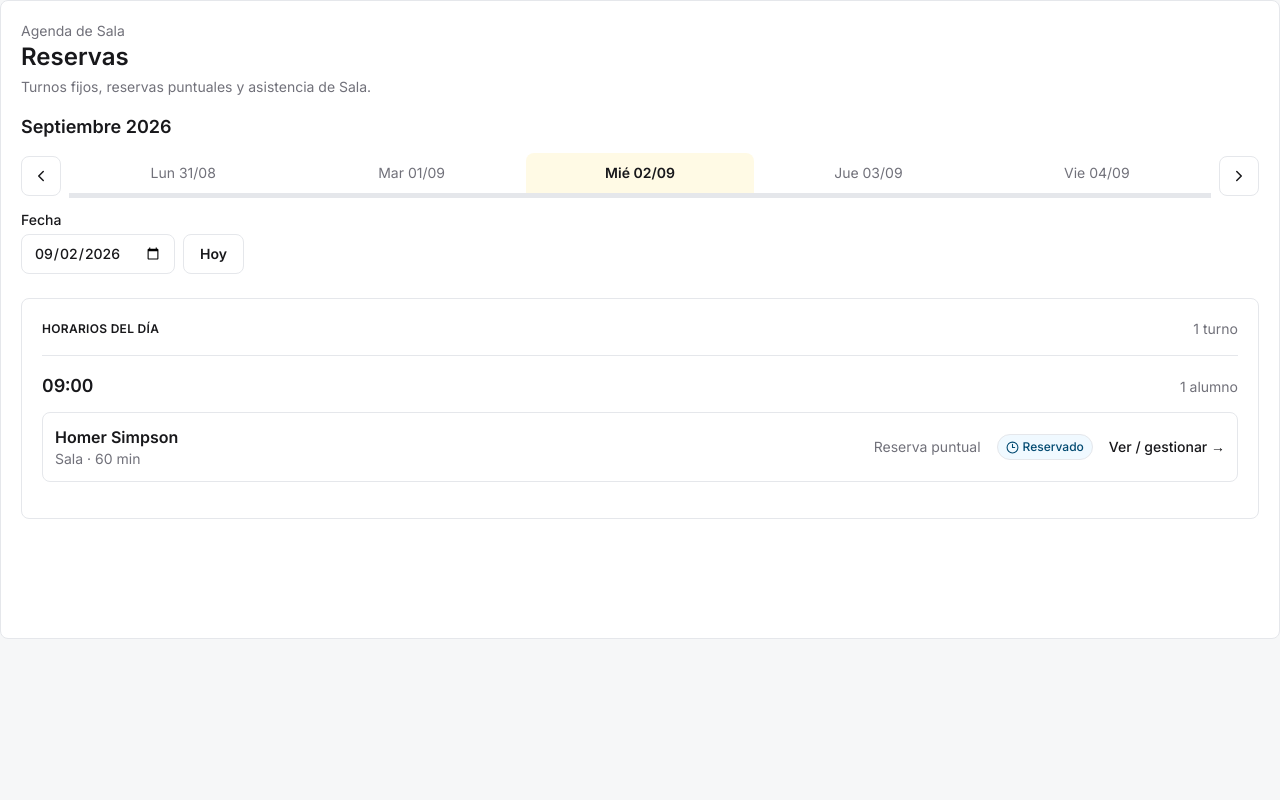
Test: Profesor vertical agenda › lets Professor use Asistió and links only to Ver alumno
Click the button with aria-label "Homer Simpson 09:00 Reservado".
click(117, 437)  # box [42,412,1238,482]
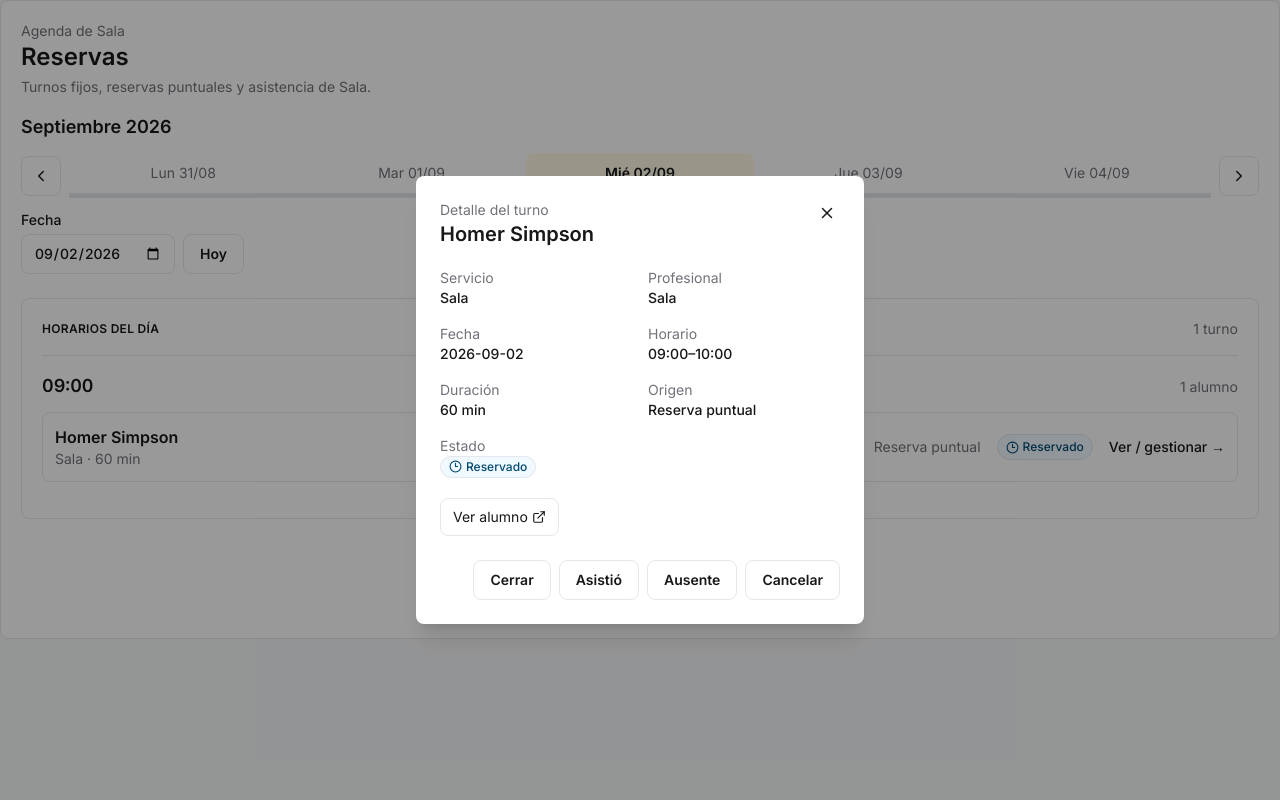
Click the button "Asistió".
click(599, 580)  # box [559,560,639,600]
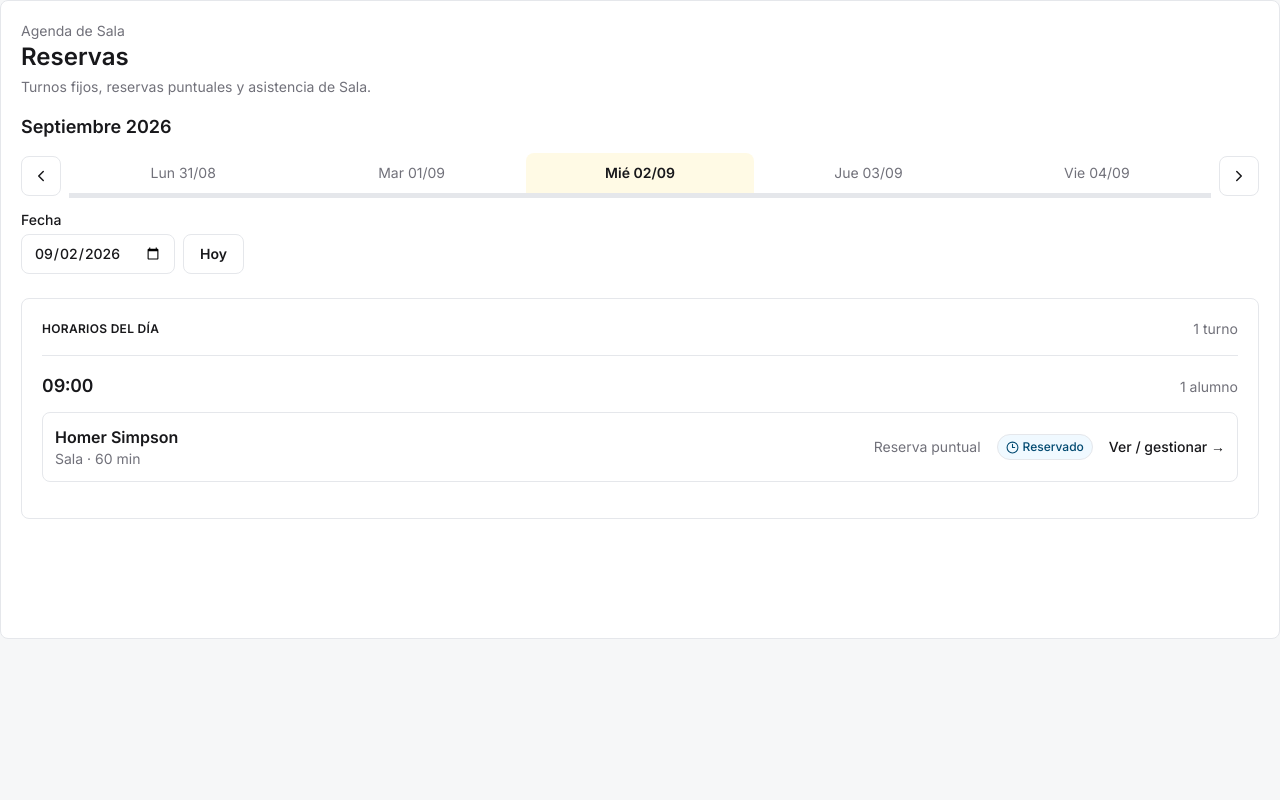
Expected: the dialog is gone
